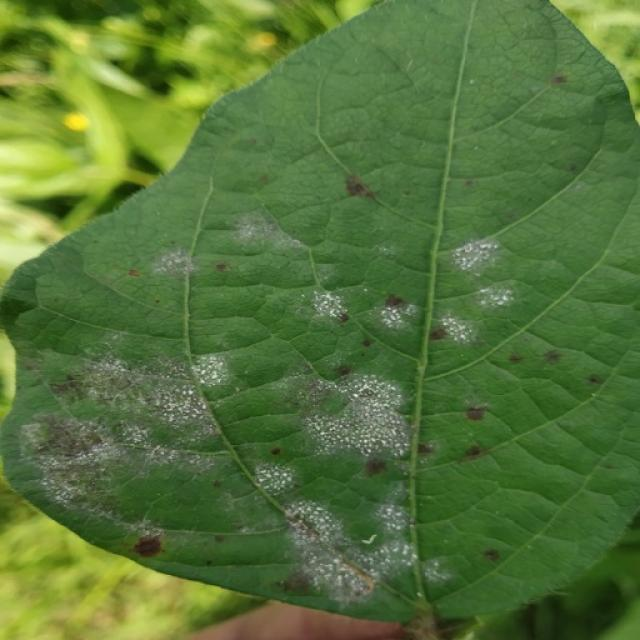Blackgram: (0, 0, 639, 636)
Powdery_Mildew: (285, 499, 411, 605), (22, 416, 148, 518), (106, 358, 226, 448), (304, 375, 411, 469), (73, 418, 212, 483), (68, 350, 150, 410), (228, 210, 304, 252), (290, 502, 347, 547), (345, 376, 404, 413), (450, 237, 501, 273), (20, 418, 58, 460), (308, 291, 348, 325), (374, 500, 410, 537), (435, 314, 478, 344), (153, 248, 197, 277), (255, 462, 294, 494), (376, 299, 414, 330), (193, 356, 232, 386), (474, 283, 515, 310), (374, 243, 399, 260)
